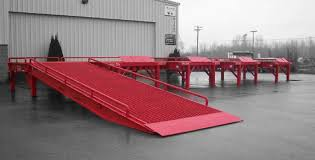Yard Ramp: (7, 56, 242, 136)
